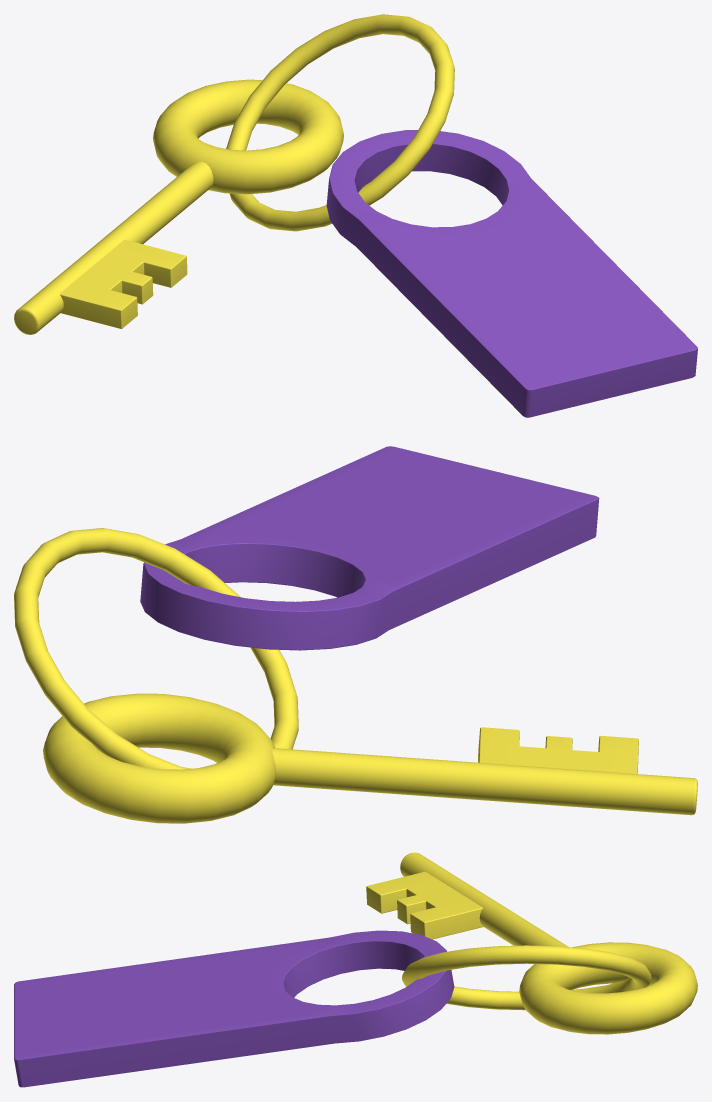
File: Public_7_Key_1.glb
The picture shows the model from 3 angles, top to bottom: view 1: azimuth 30°, elevation 25°; view 2: azimuth 150°, elevation 25°; view 3: azimuth 270°, elevation 25°; orthographic projection. The views are drawn at different scales.
Parts seen in each view (by area): view 1: Public_7_Key_1; view 2: Public_7_Key_1; view 3: Public_7_Key_1.
Boxes of the visible parts, box(x1,y1,x2,y2) form: Public_7_Key_1: box(14, 14, 697, 417); Public_7_Key_1: box(14, 446, 697, 823); Public_7_Key_1: box(14, 852, 697, 1087).
Bounding box in the file's own units: 3.42 × 1.05 × 4.56.
1 material, 1 textured.
